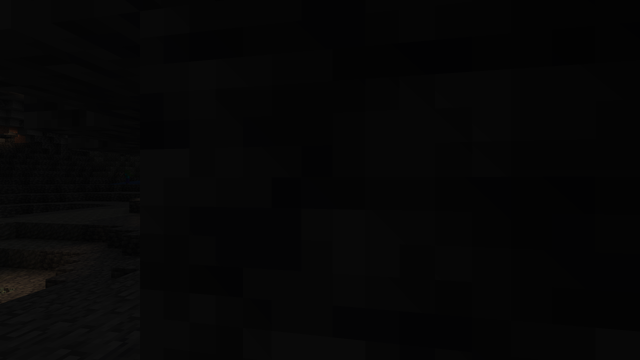zombies: (123, 170, 130, 184)
